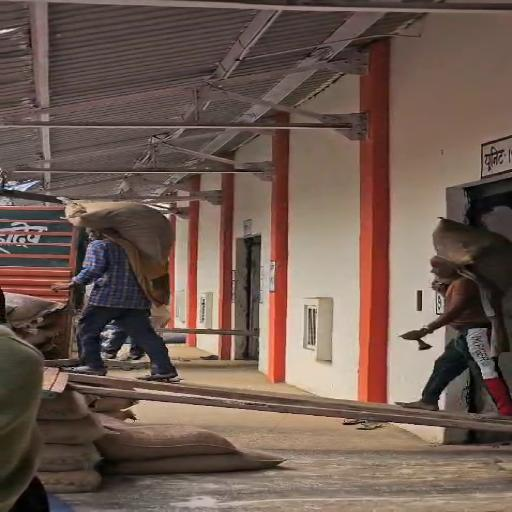bag: (55, 192, 181, 266), (430, 211, 512, 292)
